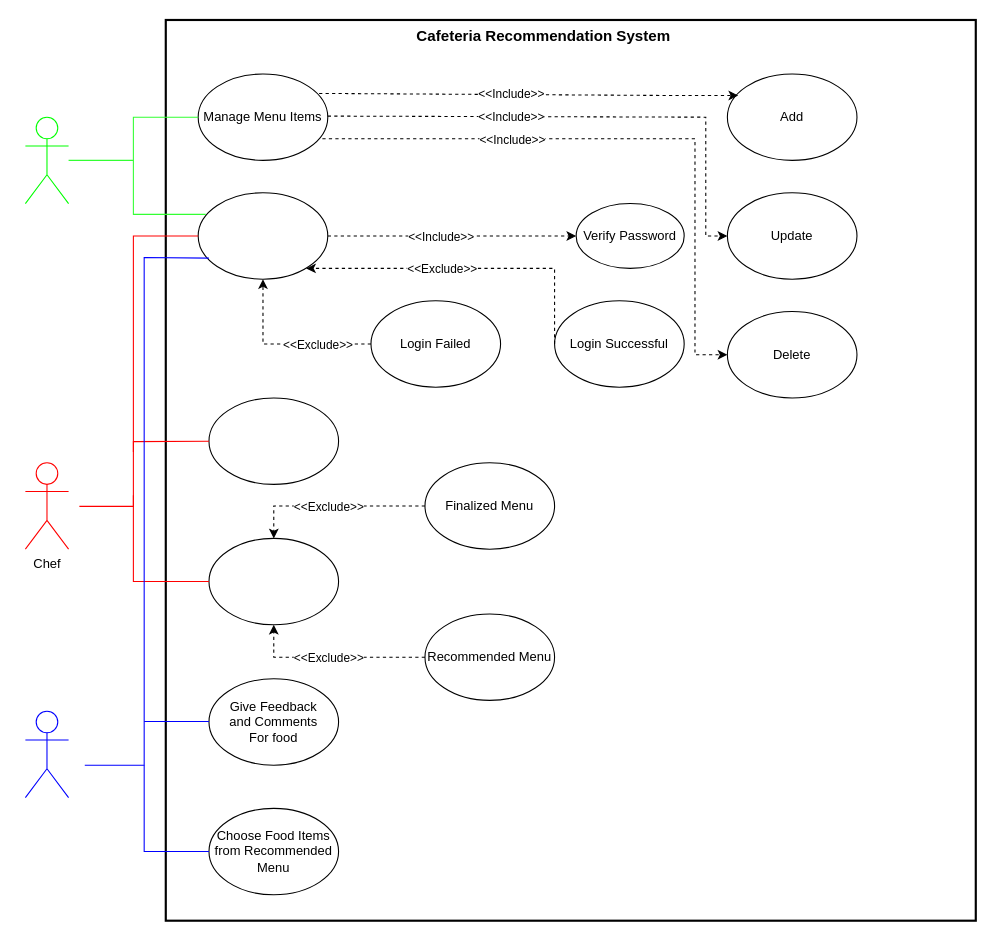
Some shapes in this 996 by 940 pixel diagram are drawn without their labels. Each missing label, with the box of its shape:
Admin: (24, 116, 69, 204)
Employee: (24, 710, 69, 798)
Generate Monthly Report: (208, 397, 339, 484)
Login: (197, 192, 328, 279)
Roll Out Menu: (208, 537, 339, 625)
